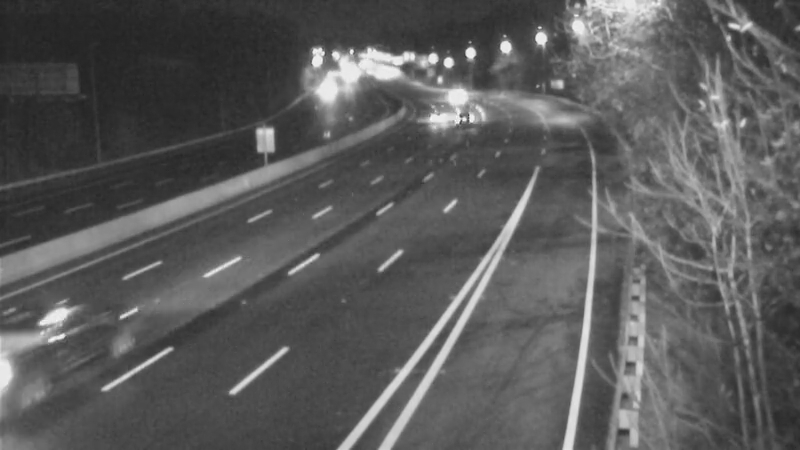vehicle: (1, 314, 96, 424), (427, 72, 477, 122), (419, 82, 469, 132), (442, 85, 492, 135)
